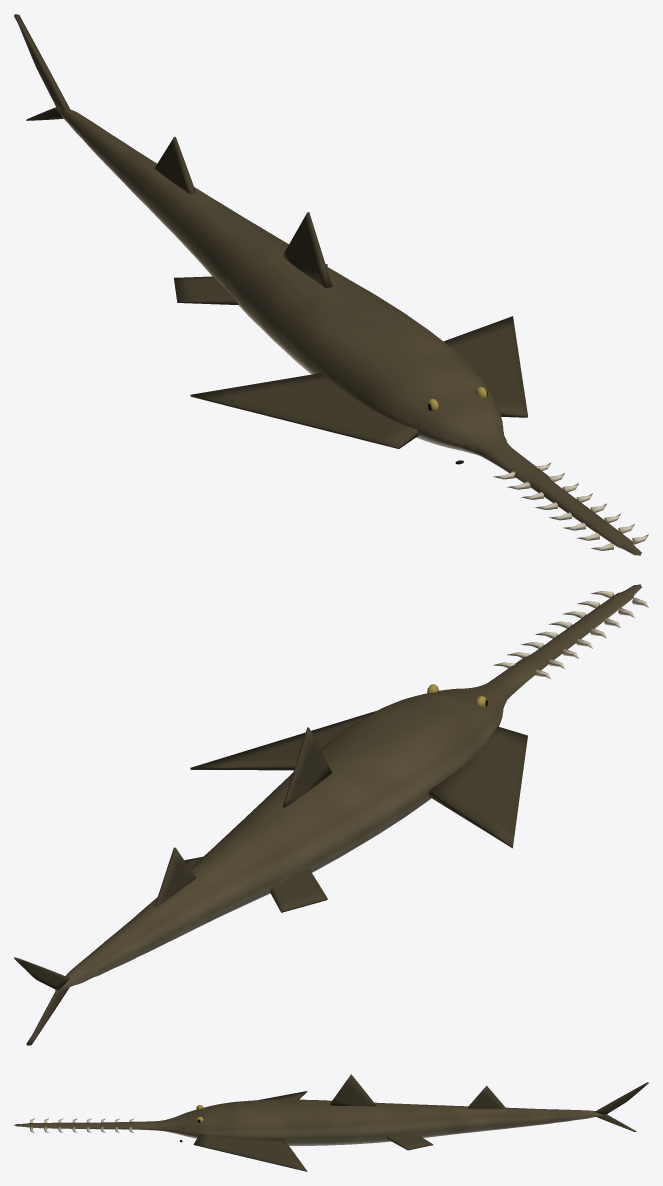
The model's file is Onchopristis.fbx.
3 renders of one model, top to bottom at view 1: azimuth 30°, elevation 25°; view 2: azimuth 150°, elevation 25°; view 3: azimuth 270°, elevation 25°, orthographic. The views are drawn at different scales.
Parts seen in each view (by area): view 1: Onchopristis; view 2: Onchopristis; view 3: Onchopristis.
Boxes of the visible parts, bbox=[...] form: Onchopristis: bbox=[14, 14, 648, 555]; Onchopristis: bbox=[14, 584, 648, 1045]; Onchopristis: bbox=[14, 1074, 648, 1171].
Bounding box in the file's own units: 0.6004 × 0.2346 × 2.02.
